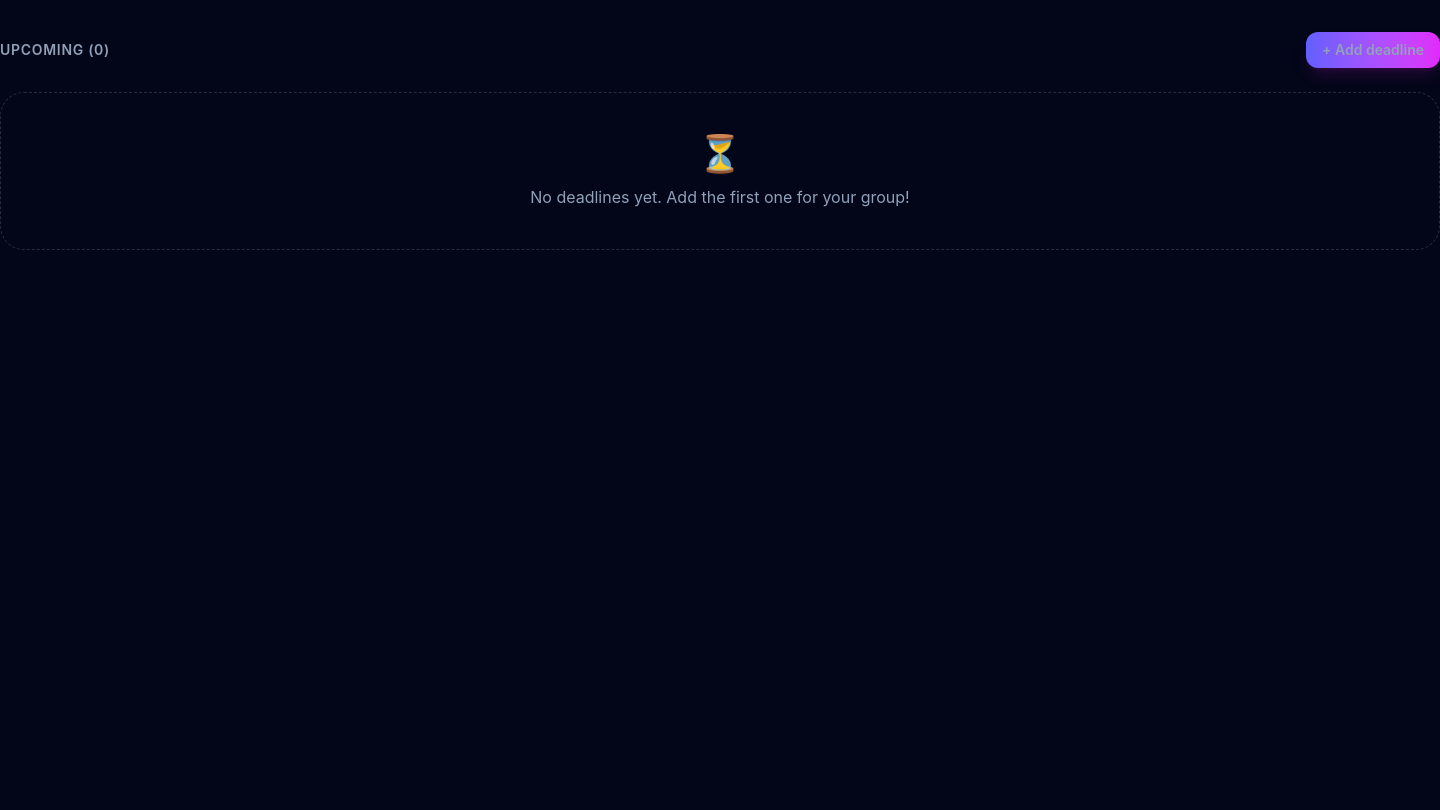
Test: add form keeps Save disabled until title, course and date are filled; posts with offset
The width and height of the screenshot is (1440, 810).
Click the button "+ Add deadline". click: click(1373, 50)
box: [1306,32,1439,68]
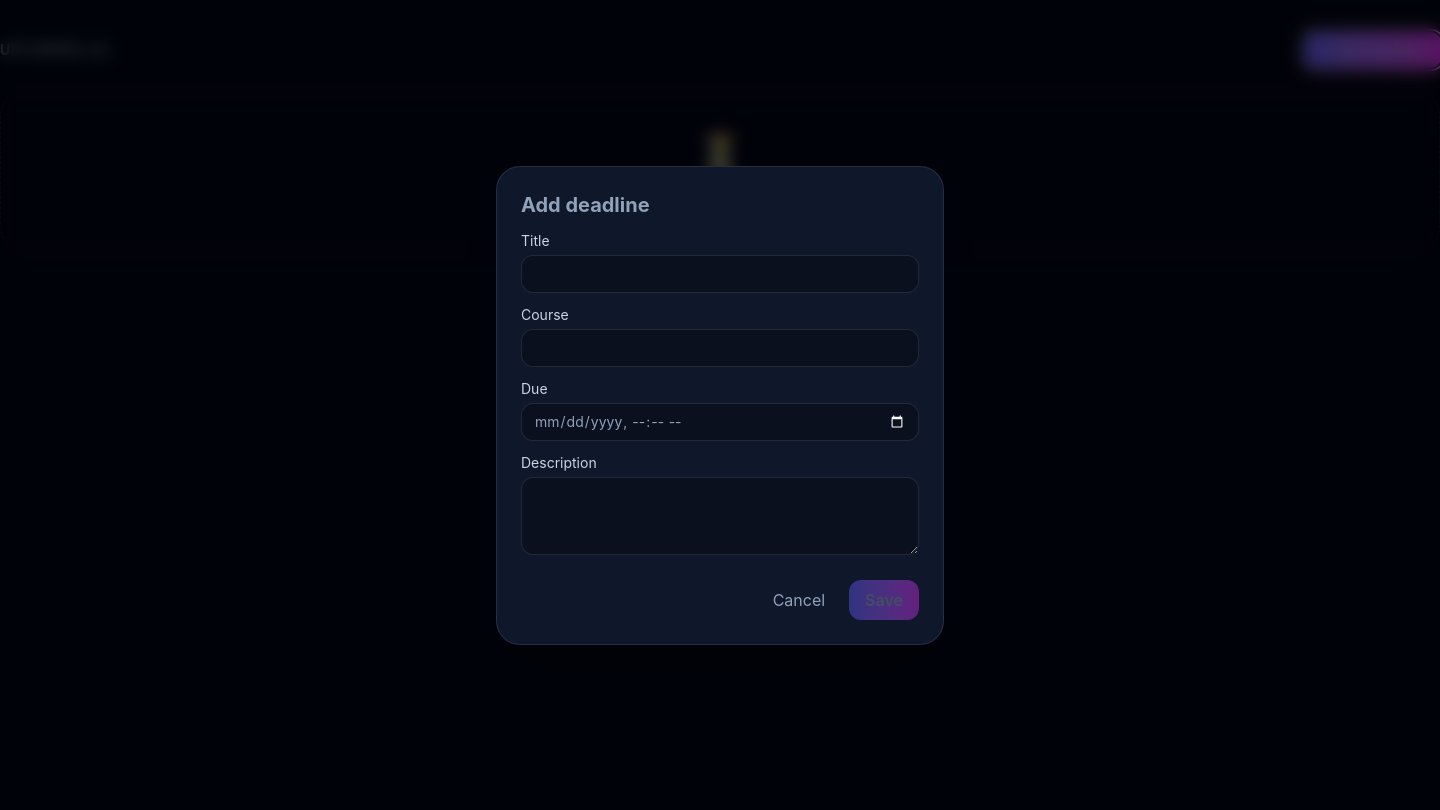
Expected: the button "Save" is disabled, [849,580,919,620]
Type "Essay" into the field labelled "Title". click: (720, 274)
box: [521,254,919,292]
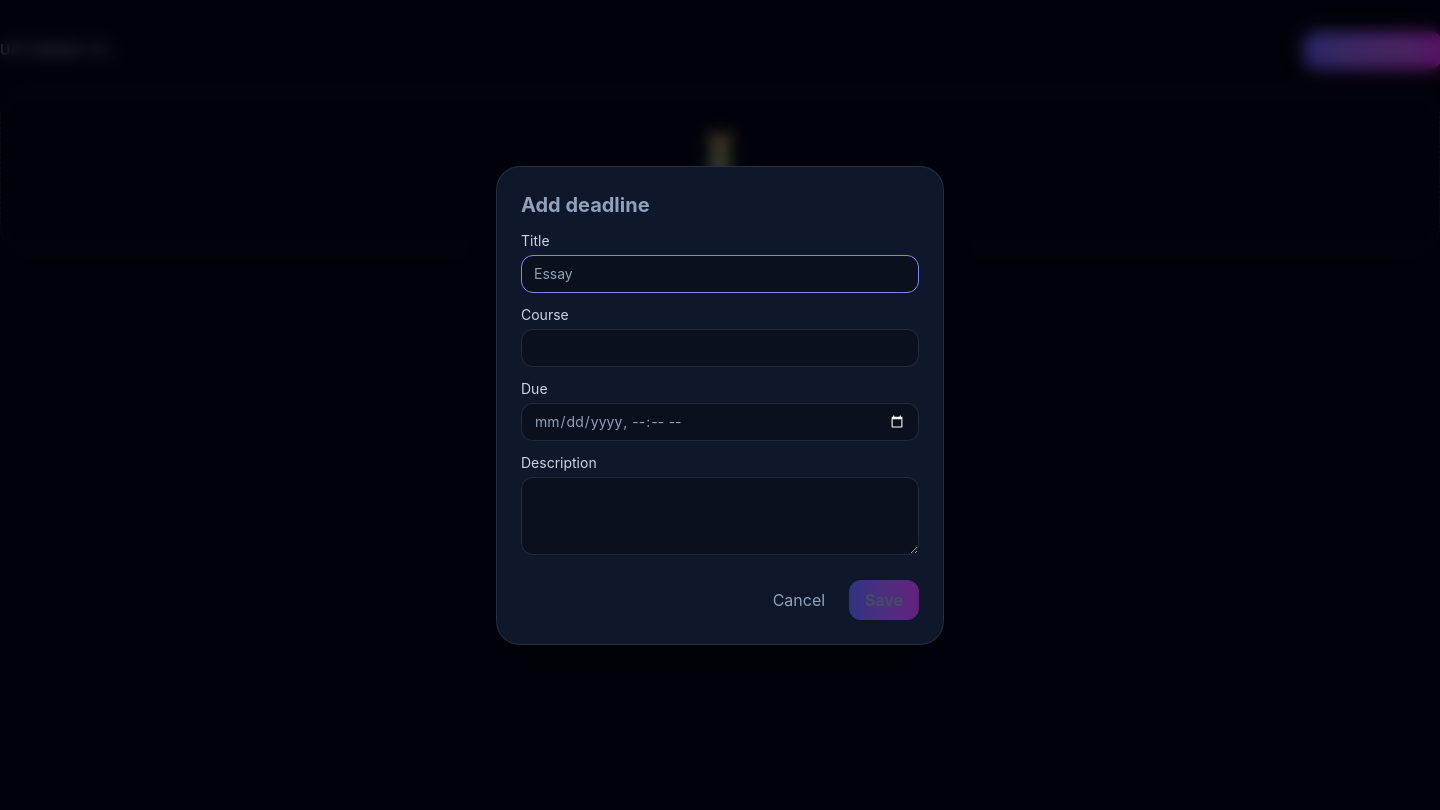
Type "HIS 101" into the field labelled "Course". click: (720, 348)
box: [521,328,919,366]
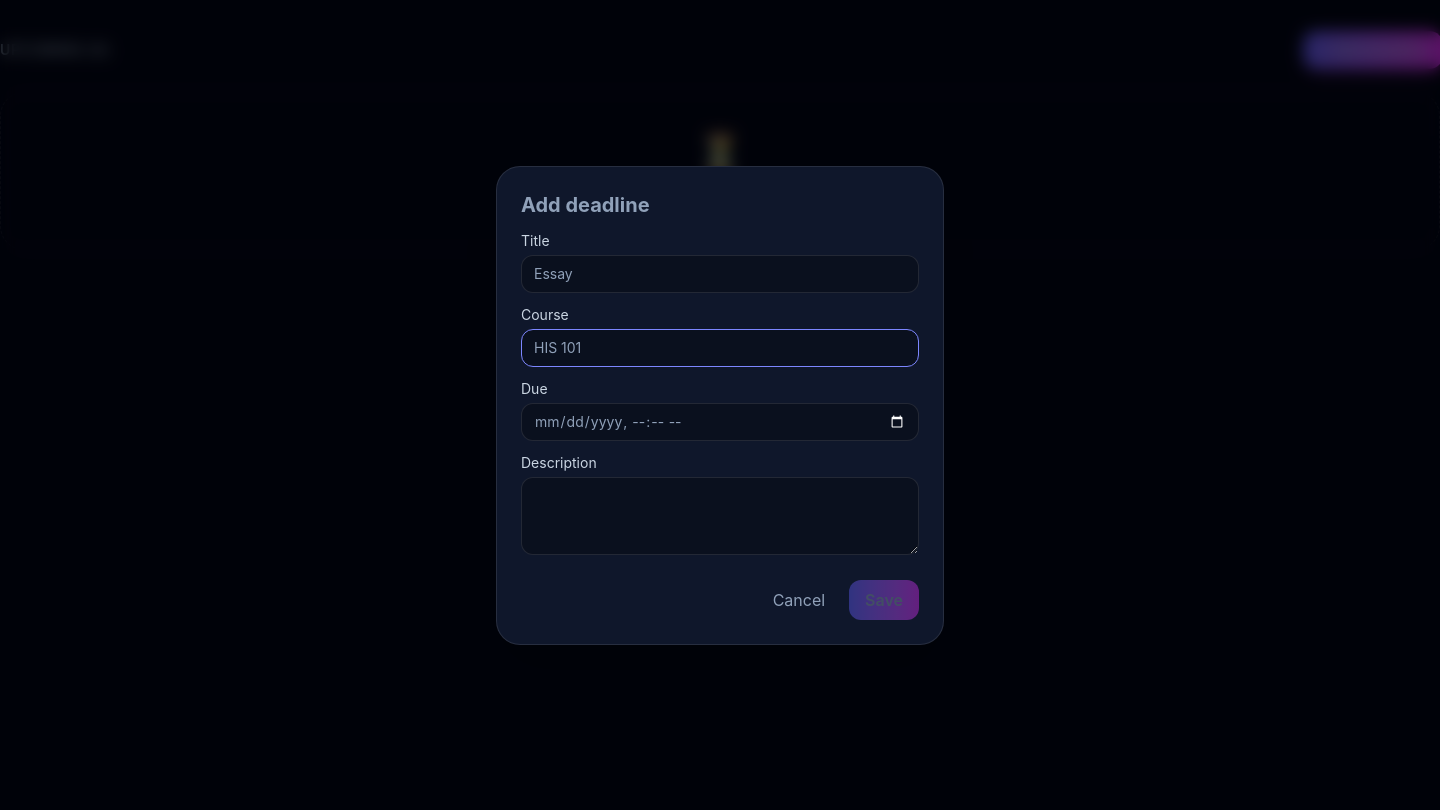
Expected: the button "Save" is disabled, [849,580,919,620]
Type "2099-05-01T10:30" into the field labelled "Due". click: (720, 422)
box: [521,402,919,440]
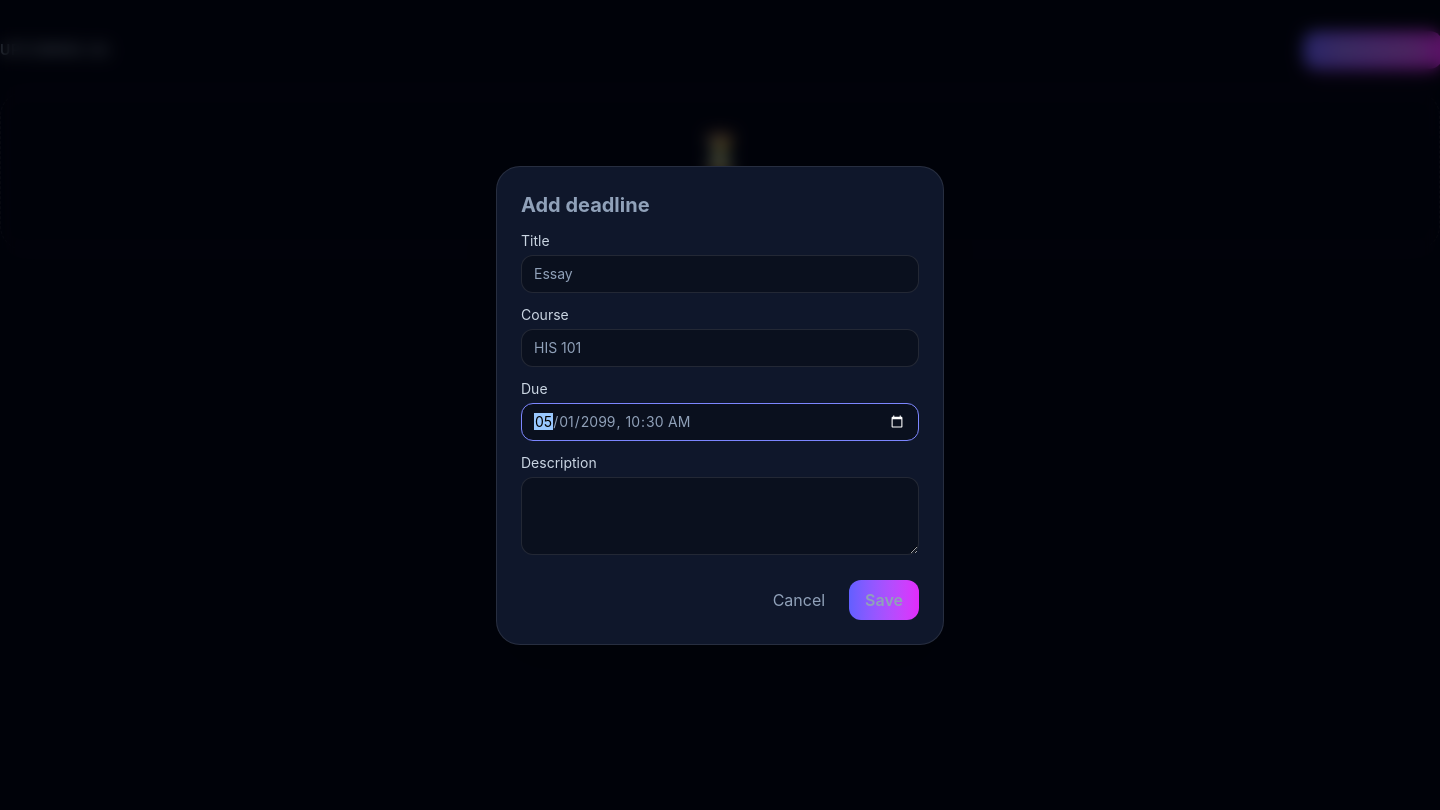
Expected: the button "Save" is enabled
Click the button "Save". click: click(884, 600)
box: [849,580,919,620]
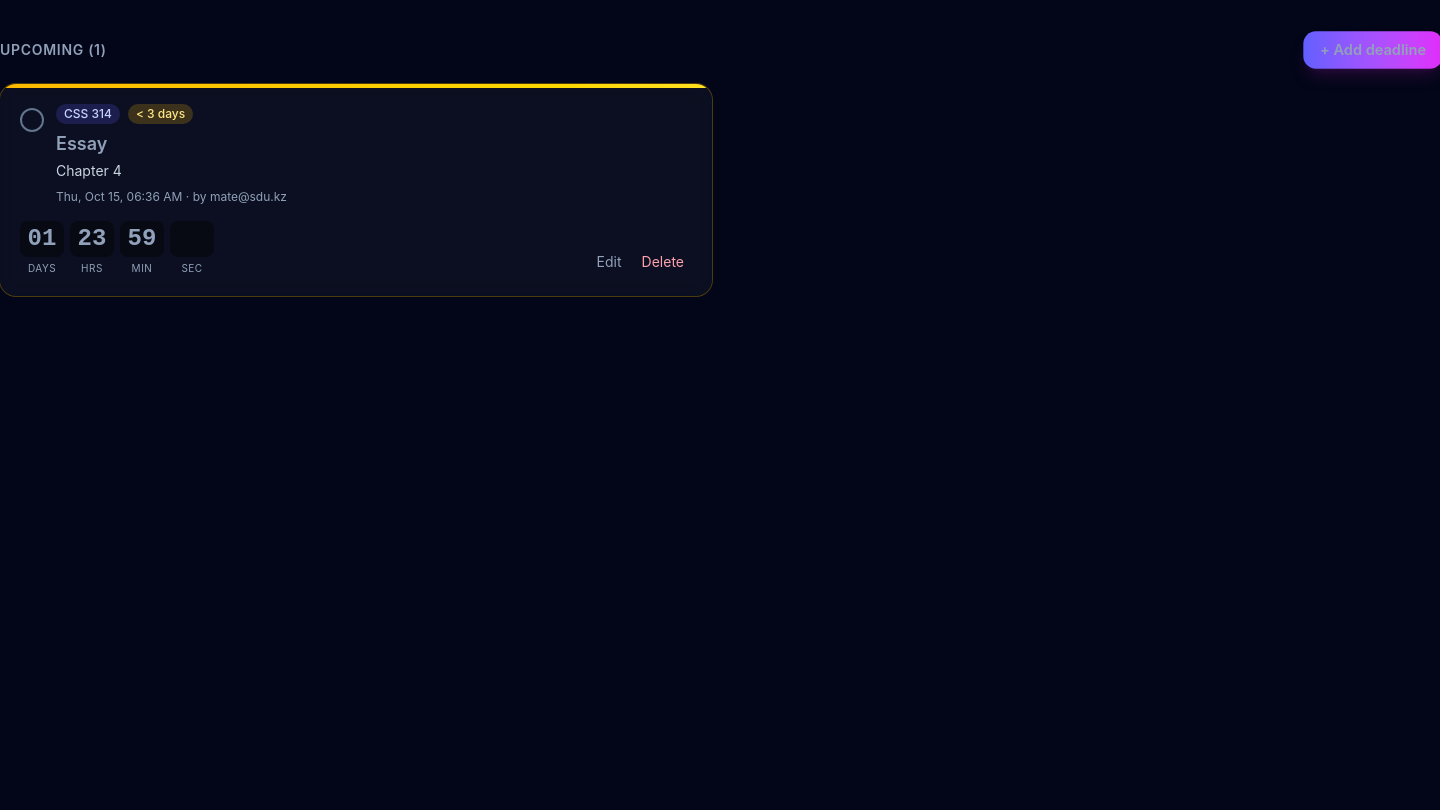
Expected: the heading "Essay" is shown, [56,133,107,154]
Expected: the list item "Essay" is shown, [0,84,712,296]
